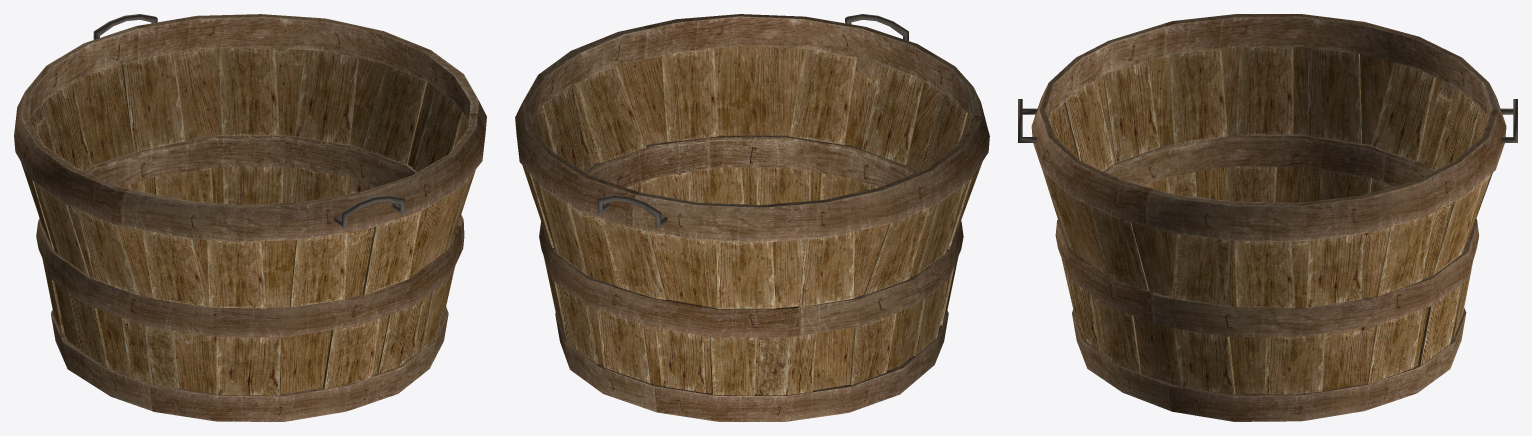
The model's file is WoodBasket.obj.
3 renders of one model, left to right at view 1: azimuth 30°, elevation 25°; view 2: azimuth 150°, elevation 25°; view 3: azimuth 270°, elevation 25°, orthographic.
Visible parts, largest first — view 1: WoodBasket_0; view 2: WoodBasket_0; view 3: WoodBasket_0.
Boxes of the visible parts, <box> form: WoodBasket_0: <box>14,14,486,421</box>; WoodBasket_0: <box>515,14,989,421</box>; WoodBasket_0: <box>1018,14,1517,421</box>.
Bounding box in the file's own units: 42.84 × 23.59 × 45.56.
Materials: 1 (1 with a texture image).
